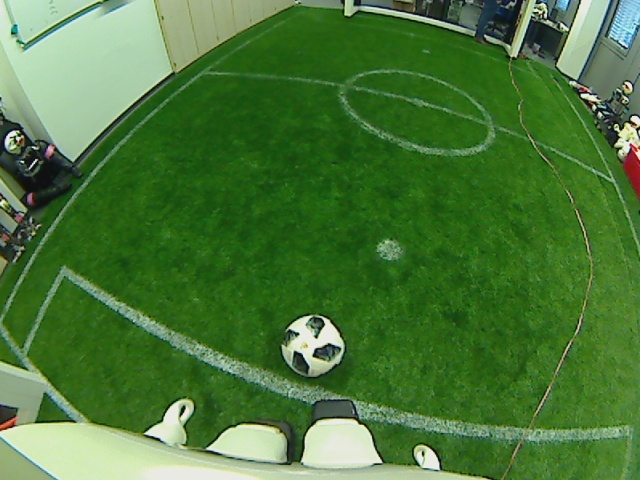ball: (279, 309, 346, 378)
